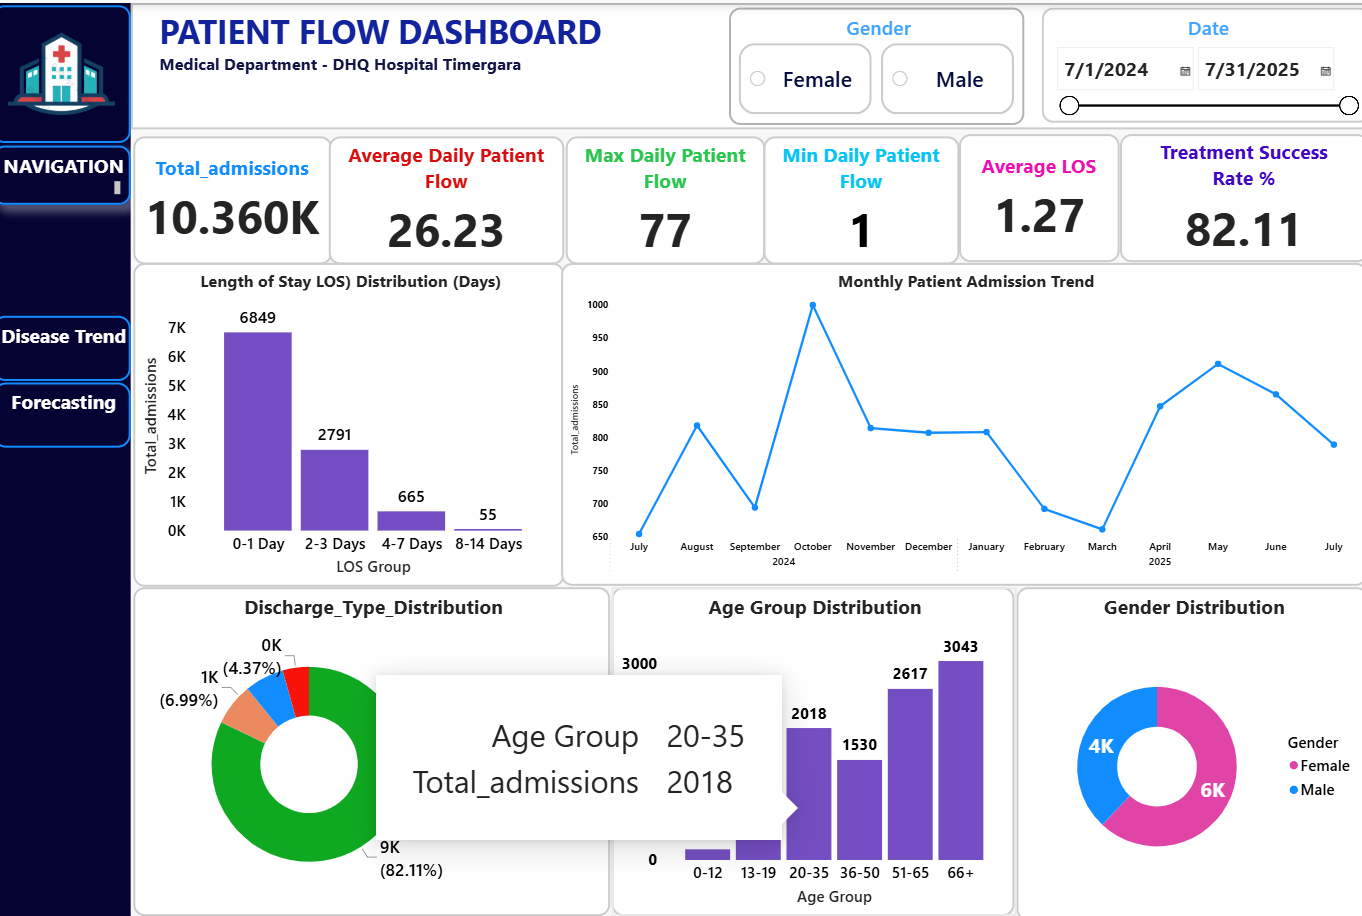

The dashboard page shown, as its layout file describes it:
{"tool":"powerbi","page":{"name":"Patient flow ","canvas":[1800,1200],"ordinal":0},"visuals":[{"type":"textbox","title":"DHQ Hospital Timergara","box":[0,0,180,1200.7],"z":0},{"type":"textbox","box":[180,0,1620,165],"z":1000},{"type":"actionButton","title":"Forecasting","box":[0,497.5,180,85],"z":2000},{"type":"actionButton","title":"Disease Trend","box":[0,410,180,85],"z":3000},{"type":"image","box":[0,2.5,180,180],"z":4000},{"type":"textbox","title":"NAVIGATION","box":[0,187.5,180,77.5],"z":5000},{"type":"cardVisual","fields":{"Data":["Avg(Sheet1.LOS)"]},"box":[1262.5,172.5,210,167.5],"z":6000},{"type":"cardVisual","fields":{"Data":["Sheet1.Total_admissions"]},"box":[182.5,175,260,167.5],"z":7000},{"type":"cardVisual","fields":{"Data":["Sheet1.Treatment Success Rate"]},"box":[1472.5,172.5,325,167.5],"z":8000},{"type":"slicer","title":"Date","fields":{"Values":["Sheet1.Date_of_admission"]},"box":[1370.8,5.9,430.4,150.3],"z":9000},{"type":"advancedSlicerVisual","title":" Gender","fields":{"Values":["Sheet1.Gender"],"Label":["Sheet1.Total_admissions"]},"box":[961,5.9,386.2,153.3],"z":10000},{"type":"cardVisual","fields":{"Data":["Sheet1.Average Daily Patient Flow"]},"box":[440,175,308,167.5],"z":11000},{"type":"cardVisual","fields":{"Data":["Sheet1.Max Daily Patient Flow"]},"box":[747.5,175,261,167.5],"z":12000},{"type":"cardVisual","fields":{"Data":["Sheet1.Min Daily Patient Flow"]},"box":[1007.5,175,256,167.5],"z":13000},{"type":"donutChart","title":"Gender Distribution","fields":{"Category":["Sheet1.Gender"],"Y":["Sheet1.Total_admissions"]},"box":[1338.1,763.8,460.1,436],"z":14000},{"type":"donutChart","title":"Discharge_Type_Distribution","fields":{"Category":["Sheet1.Type_of_Discharge"],"Y":["Sheet1.Total_admissions"]},"box":[183.3,763.3,623.3,430],"z":15000},{"type":"lineStackedColumnComboChart","title":"Length of Stay LOS) Distribution (Days)","fields":{"Category":["Sheet1.LOS Group"],"Y":["Sheet1.Total_admissions"]},"box":[183.3,340,563.3,423.3],"z":16000},{"type":"lineStackedColumnComboChart","title":"Age Group Distribution","fields":{"Category":["Sheet1.Age Group"],"Y":["Sheet1.Total_admissions"]},"box":[810,763.3,526.7,430],"z":17000},{"type":"lineChart","title":"Monthly Patient Admission Trend","fields":{"Y":["Sheet1.Total_admissions"],"Category":["Sheet1.Date_of_admission.Variation.Date Hierarchy.Year","Sheet1.Date_of_admission.Variation.Date Hierarchy.Month"]},"box":[744,340,1054,422],"z":18000}]}

Visuals, with their boxes in screenshot pixels (x1, y1, x2, y2), scaled from the page's 1800x1200 canvas onto the 1362x916 screenshot:
"DHQ Hospital Timergara" textbox: bbox=(0, 0, 136, 915)
textbox: bbox=(136, 0, 1361, 126)
"Forecasting" actionButton: bbox=(0, 380, 136, 445)
"Disease Trend" actionButton: bbox=(0, 313, 136, 378)
image: bbox=(0, 2, 136, 139)
"NAVIGATION" textbox: bbox=(0, 143, 136, 202)
cardVisual - Avg(Sheet1.LOS): bbox=(955, 132, 1114, 260)
cardVisual - Sheet1.Total_admissions: bbox=(138, 134, 335, 261)
cardVisual - Sheet1.Treatment Success Rate: bbox=(1114, 132, 1360, 260)
"Date" slicer: bbox=(1037, 5, 1361, 119)
" Gender" advancedSlicerVisual: bbox=(727, 5, 1019, 122)
cardVisual - Sheet1.Average Daily Patient Flow: bbox=(333, 134, 566, 261)
cardVisual - Sheet1.Max Daily Patient Flow: bbox=(566, 134, 763, 261)
cardVisual - Sheet1.Min Daily Patient Flow: bbox=(762, 134, 956, 261)
"Gender Distribution" donutChart: bbox=(1012, 583, 1361, 915)
"Discharge_Type_Distribution" donutChart: bbox=(139, 583, 610, 911)
"Length of Stay LOS) Distribution (Days)" lineStackedColumnComboChart: bbox=(139, 260, 565, 583)
"Age Group Distribution" lineStackedColumnComboChart: bbox=(613, 583, 1011, 911)
"Monthly Patient Admission Trend" lineChart: bbox=(563, 260, 1360, 582)
